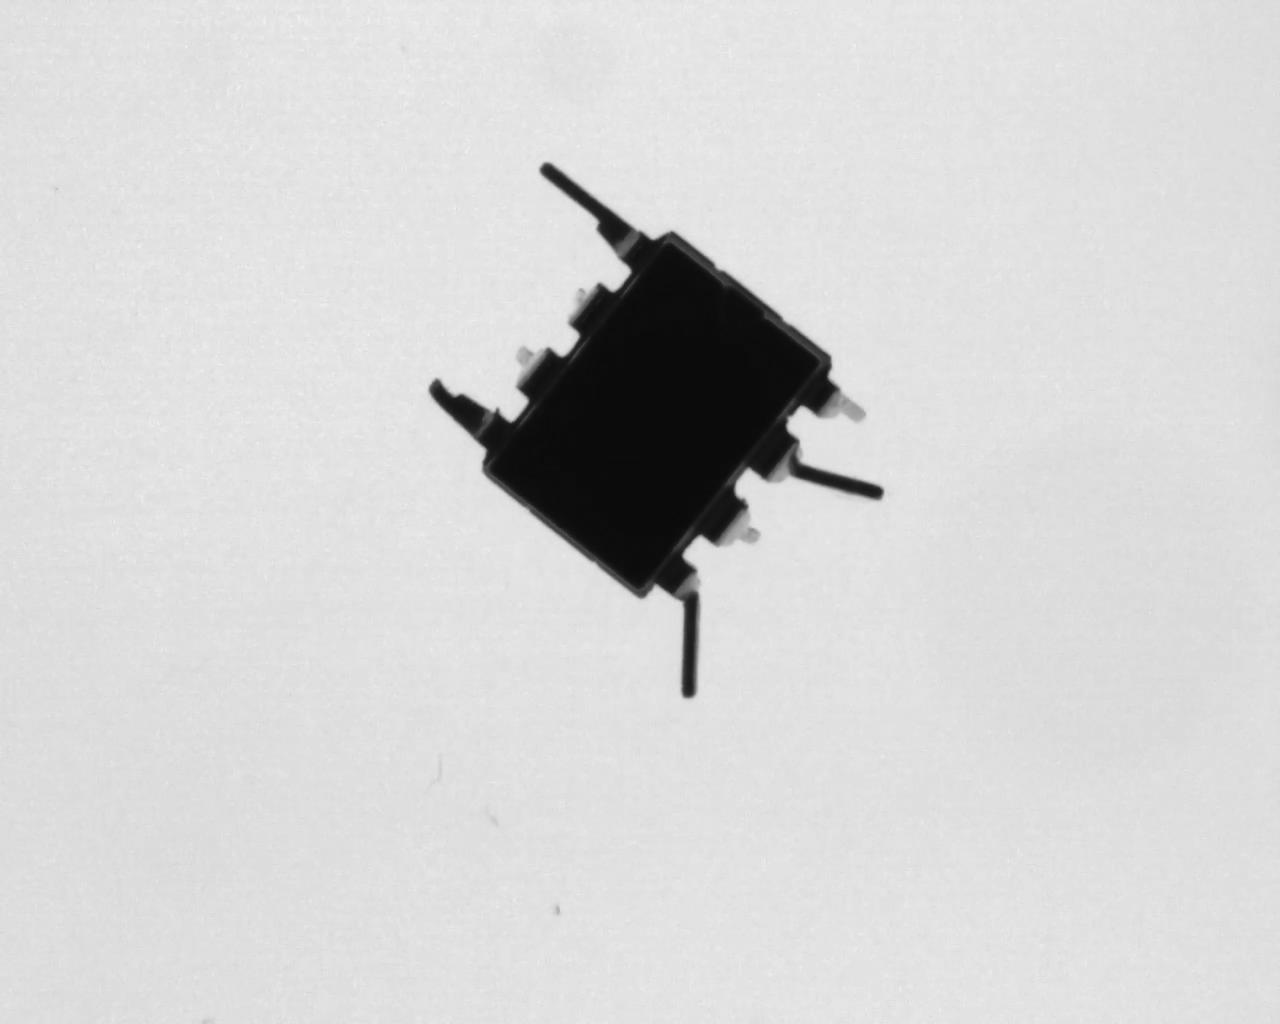Leg: (539, 162, 651, 269), (749, 425, 884, 502), (659, 556, 704, 700), (428, 377, 509, 449), (701, 486, 763, 548), (798, 373, 868, 422), (515, 344, 561, 397), (566, 279, 609, 333)
